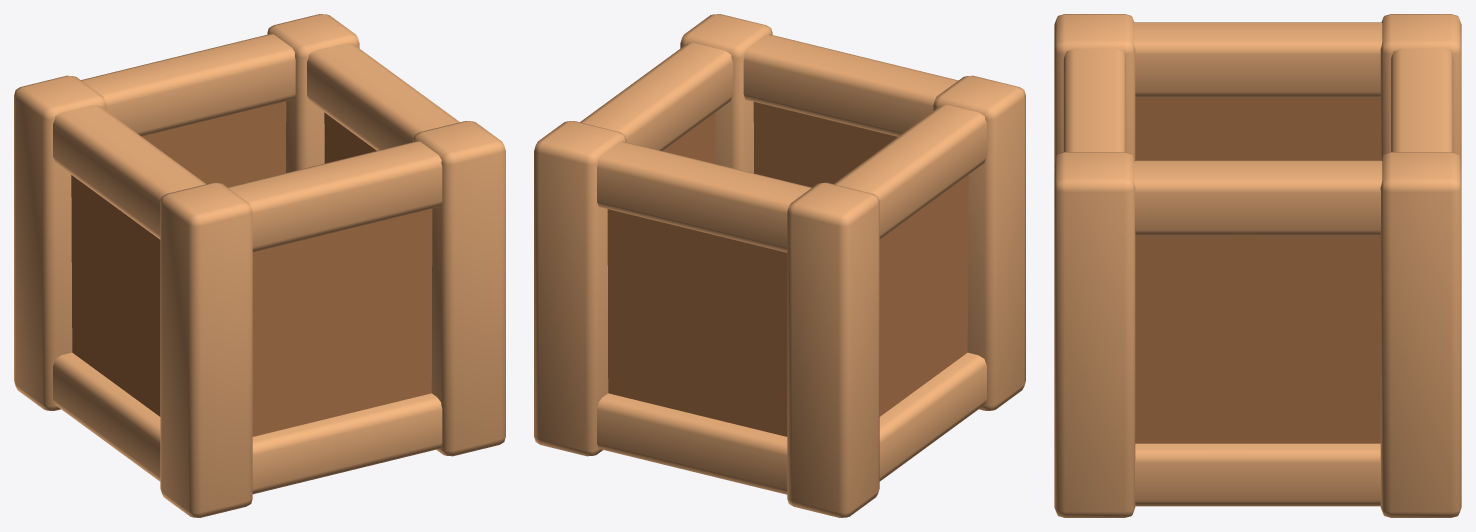
Rendered from Wooden_Box_03.fbx.
3 views of the same model, side by side, from view 1: azimuth 30°, elevation 25°; view 2: azimuth 150°, elevation 25°; view 3: azimuth 270°, elevation 25° (orthographic). The views are drawn at different scales.
Visible parts, largest first — view 1: Wooden_Box_03; view 2: Wooden_Box_03; view 3: Wooden_Box_03.
Boxes of the visible parts, left/top/right/bottom form: Wooden_Box_03: left=14, top=14, right=505, bottom=517; Wooden_Box_03: left=534, top=14, right=1025, bottom=517; Wooden_Box_03: left=1054, top=14, right=1461, bottom=517.
Size of the model in its own units: 604 by 554 by 604.
